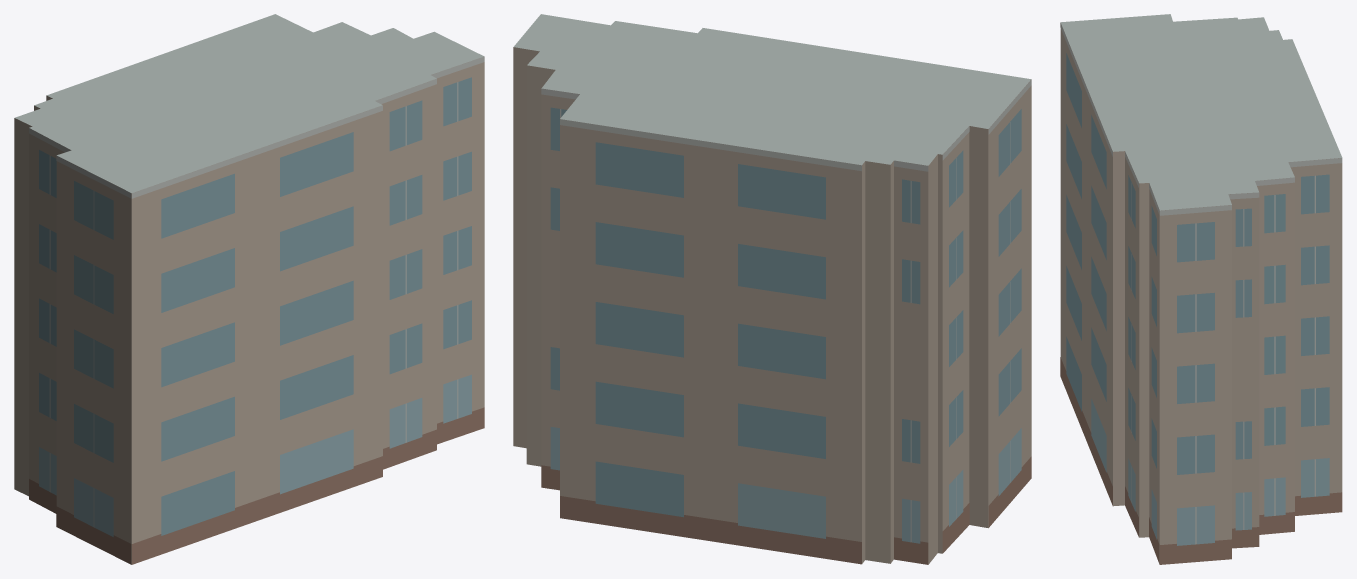
Rendered from survey-upis-33004702.glb.
3 views of the same model, side by side, from view 1: azimuth 30°, elevation 25°; view 2: azimuth 150°, elevation 25°; view 3: azimuth 270°, elevation 25° (orthographic). The views are drawn at different scales.
Visible parts, largest first — view 1: survey-upis-33004702.tmp; view 2: survey-upis-33004702.tmp; view 3: survey-upis-33004702.tmp.
Part boxes in pixels (left/top/right/bottom): survey-upis-33004702.tmp: left=14, top=14, right=484, bottom=564; survey-upis-33004702.tmp: left=513, top=14, right=1031, bottom=564; survey-upis-33004702.tmp: left=1060, top=14, right=1342, bottom=564.
Size of the model in its own units: 19.4 by 16.3 by 11.76.
